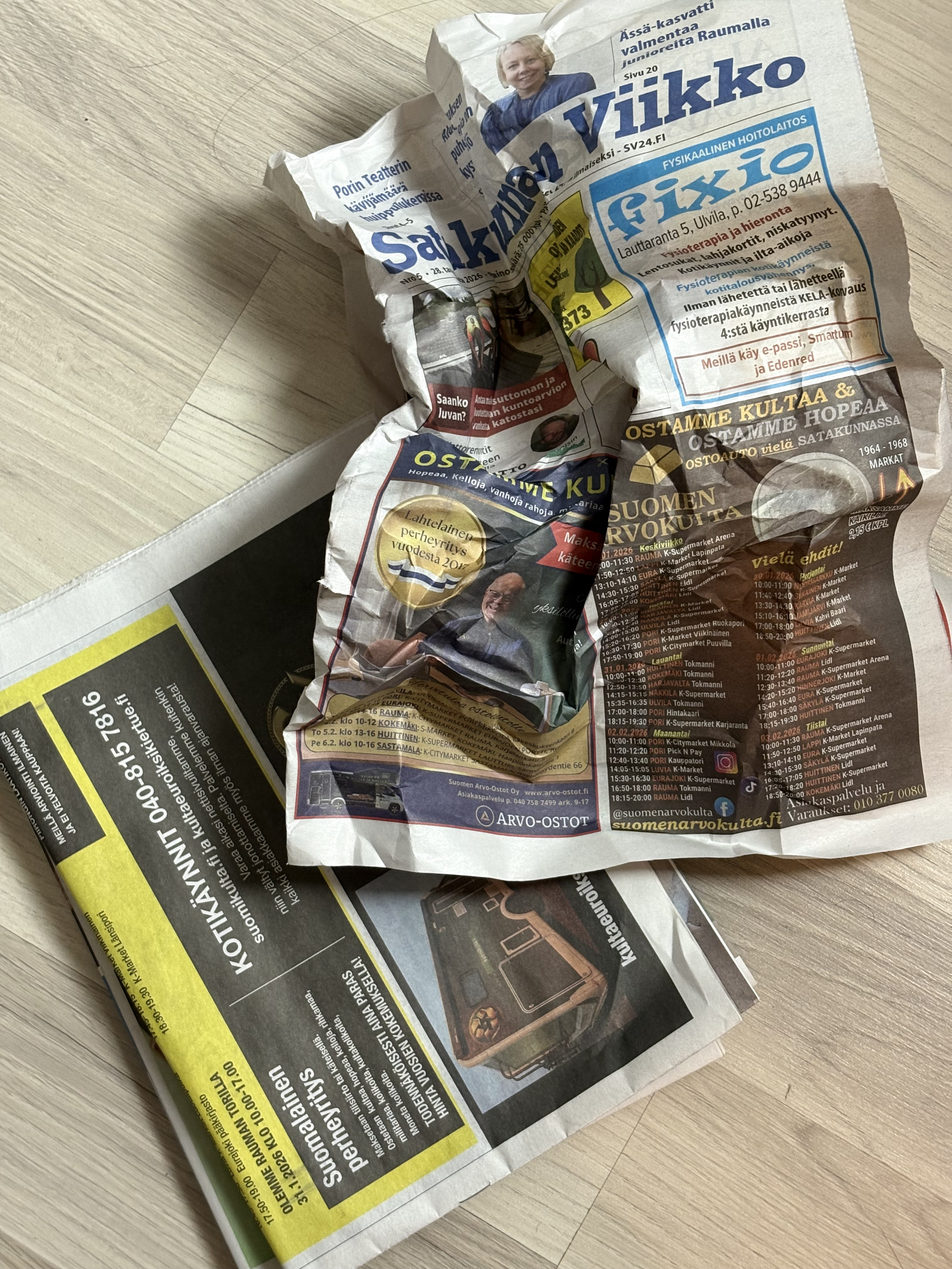paper: (6, 15, 942, 1261)
